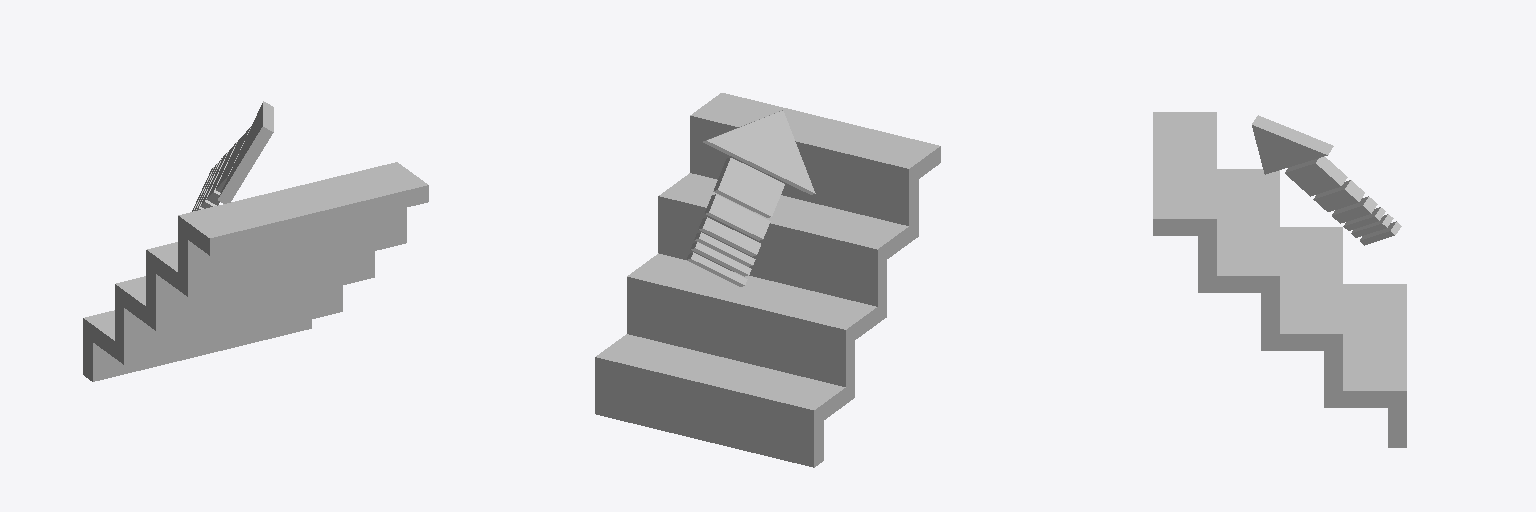
File: stairsUp.obj
The picture shows the model from 3 angles: view 1: azimuth 30°, elevation 25°; view 2: azimuth 150°, elevation 25°; view 3: azimuth 270°, elevation 25°; orthographic projection.
Parts seen in each view (by area): view 1: Stairs_Cube, Box1.001; view 2: Stairs_Cube, Box1.001, Box.001, Box2.001, Box3.001, Box4.001, Box5.001, Box6.001; view 3: Stairs_Cube, Box1.001, Box.001, Box2.001, Box3.001.
Part boxes in pixels (x1,y1,x2,y2): Stairs_Cube: (83, 162, 428, 381); Box1.001: (218, 101, 273, 203); Stairs_Cube: (595, 93, 940, 467); Box1.001: (703, 110, 815, 194); Box.001: (713, 157, 784, 217); Box2.001: (705, 194, 770, 240); Box3.001: (698, 217, 760, 256); Box4.001: (694, 232, 755, 266); Box5.001: (690, 242, 751, 276); Box6.001: (687, 252, 747, 286); Stairs_Cube: (1153, 112, 1406, 447); Box1.001: (1252, 115, 1333, 174); Box.001: (1285, 156, 1347, 196); Box2.001: (1313, 180, 1364, 211); Box3.001: (1332, 196, 1377, 223).
Size of the model in its own units: 2 by 2.42 by 2.